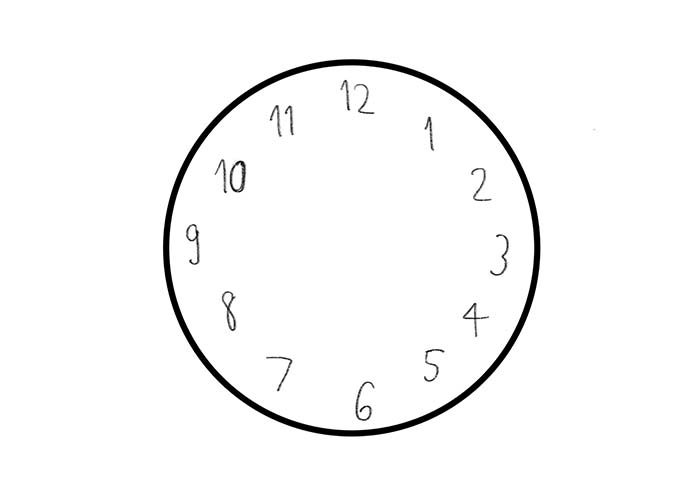eight: (212, 284, 250, 344)
eleven: (260, 100, 303, 138)
five: (411, 341, 448, 386)
four: (454, 293, 489, 342)
nine: (183, 221, 206, 269)
one: (417, 106, 441, 151)
seven: (263, 347, 297, 394)
six: (347, 371, 379, 425)
ten: (215, 153, 255, 196)
three: (485, 226, 510, 285)
twelve: (337, 74, 382, 118)
two: (459, 160, 495, 204)
